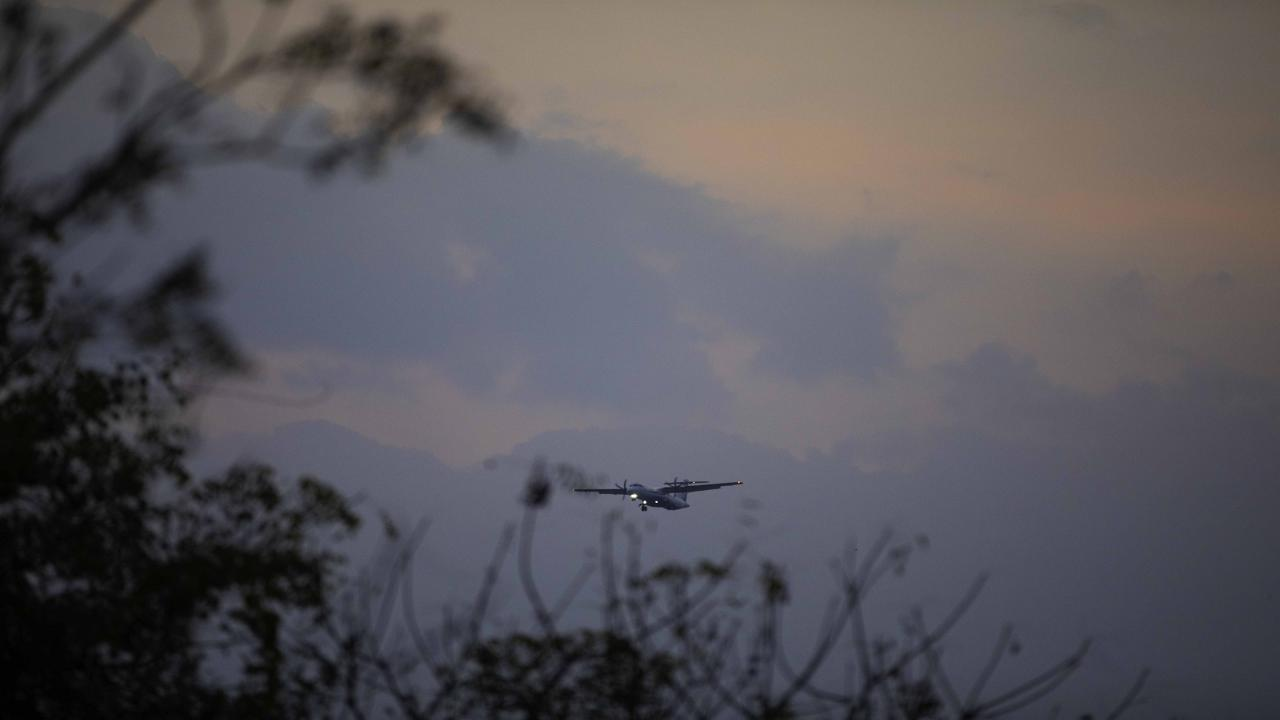Airplane: (551, 465, 756, 522)
